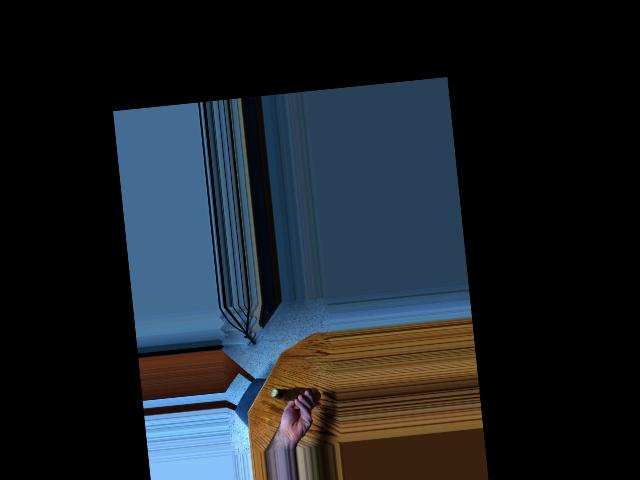sweet_potato: (266, 384, 321, 405)
